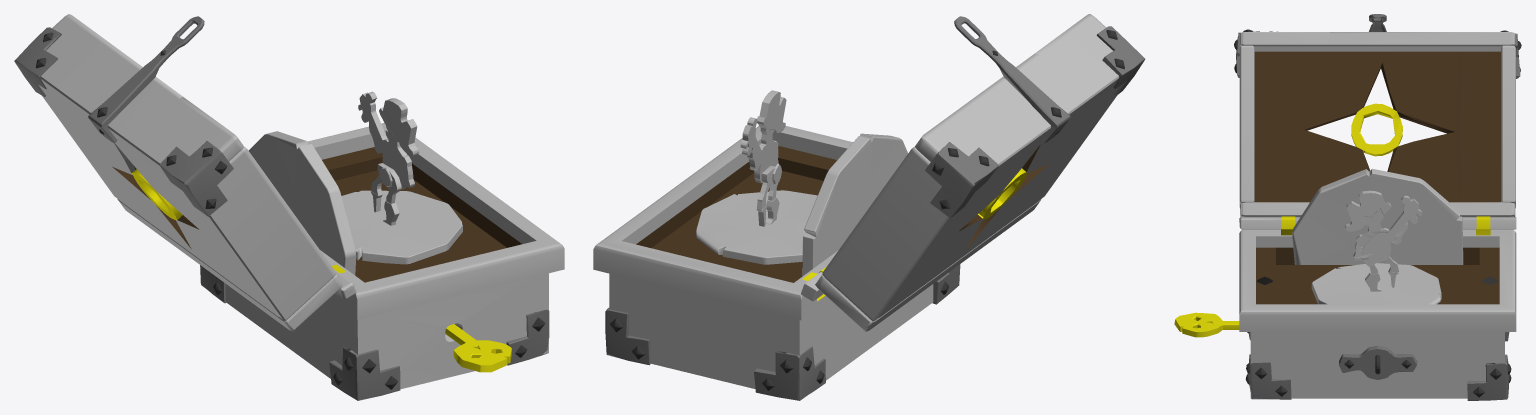
File: Box_anim_new_2.fbx
3 renders of one model, left to right at view 1: azimuth 30°, elevation 25°; view 2: azimuth 150°, elevation 25°; view 3: azimuth 270°, elevation 25°, orthographic. The views are drawn at different scales.
Parts seen in each view (by area): view 1: part7, polySurface7, pasted__Roue, Roue_2, Haut, Clef, Bas; view 2: polySurface7, part7, pasted__Roue, Roue_2, Haut, Bas; view 3: part7, polySurface7, pasted__Roue, Roue_2, Haut, Clef, Bas.
Part boxes in pixels (<box>): part7: <box>14,14,356,331</box>; polySurface7: <box>200,123,564,400</box>; pasted__Roue: <box>248,131,356,275</box>; Roue_2: <box>341,190,462,264</box>; Haut: <box>358,91,419,190</box>; Clef: <box>445,324,511,372</box>; Bas: <box>370,163,401,225</box>; polySurface7: <box>593,126,960,400</box>; part7: <box>801,14,1145,331</box>; pasted__Roue: <box>802,133,907,276</box>; Roue_2: <box>696,190,817,264</box>; Haut: <box>740,90,786,183</box>; Bas: <box>756,165,779,226</box>; part7: <box>1234,14,1521,229</box>; polySurface7: <box>1239,229,1516,400</box>; pasted__Roue: <box>1292,168,1463,264</box>; Roue_2: <box>1311,263,1441,304</box>; Haut: <box>1345,190,1421,266</box>; Clef: <box>1174,312,1239,337</box>; Bas: <box>1362,256,1399,291</box>.
Bounding box in the file's own units: 17.77 × 14.87 × 16.71.
